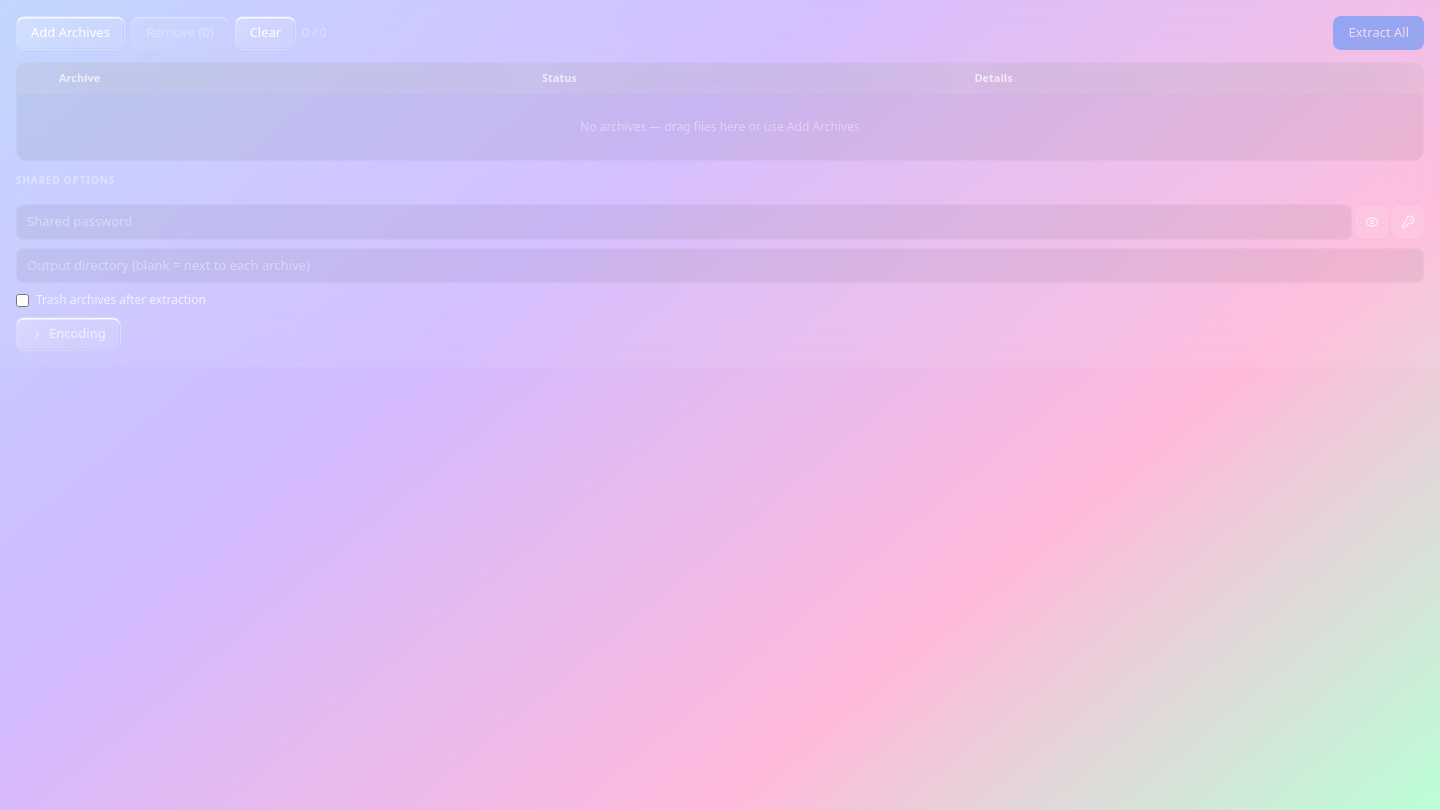
Scenario: BatchPanel › Clear button removes all archives
The image size is (1440, 810).
Click the button "Add Archives" at (70, 33), box [16, 16, 125, 50]
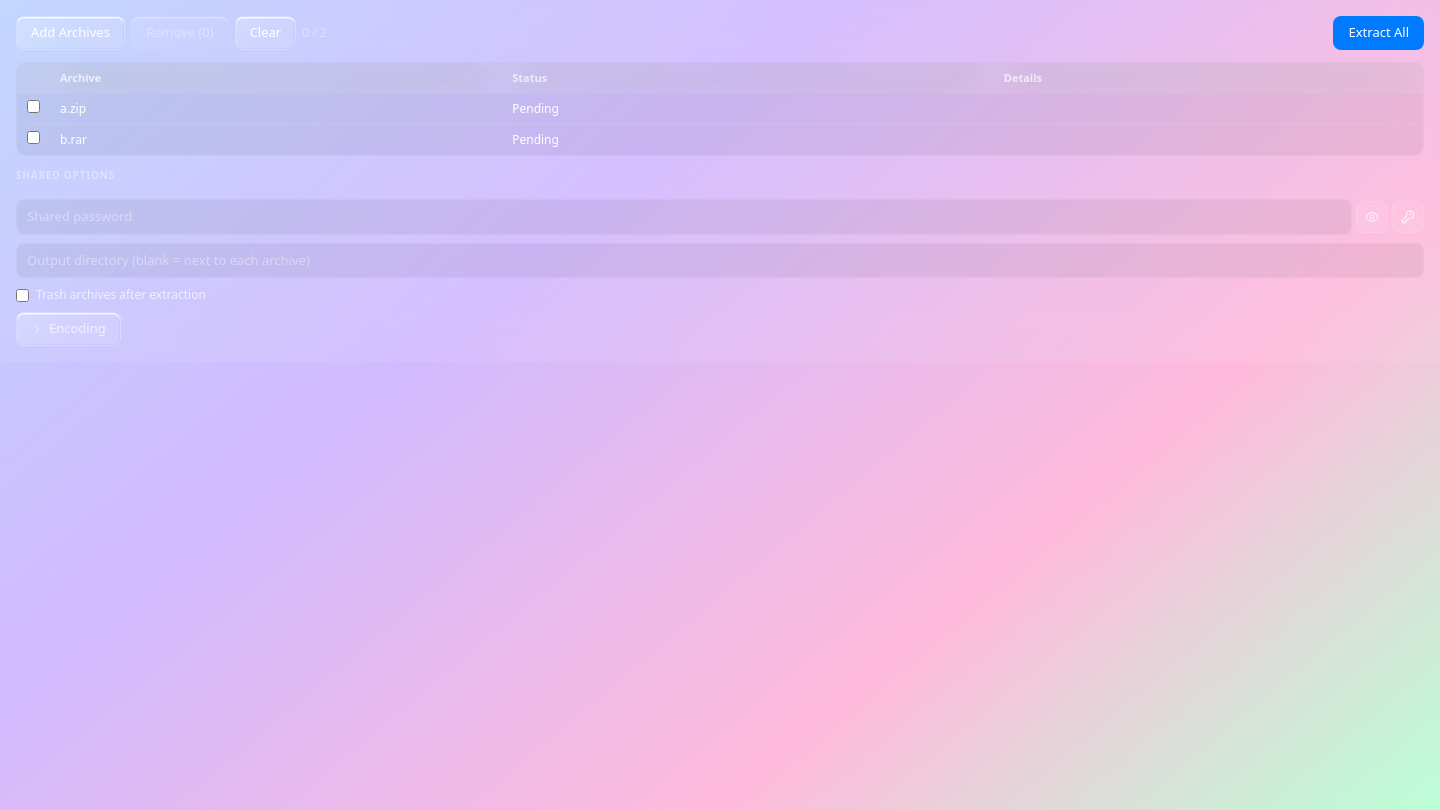
Expected: the text "a.zip" is shown, [50, 94, 502, 124]
Click the button "Clear" at (265, 33), box [235, 16, 296, 50]
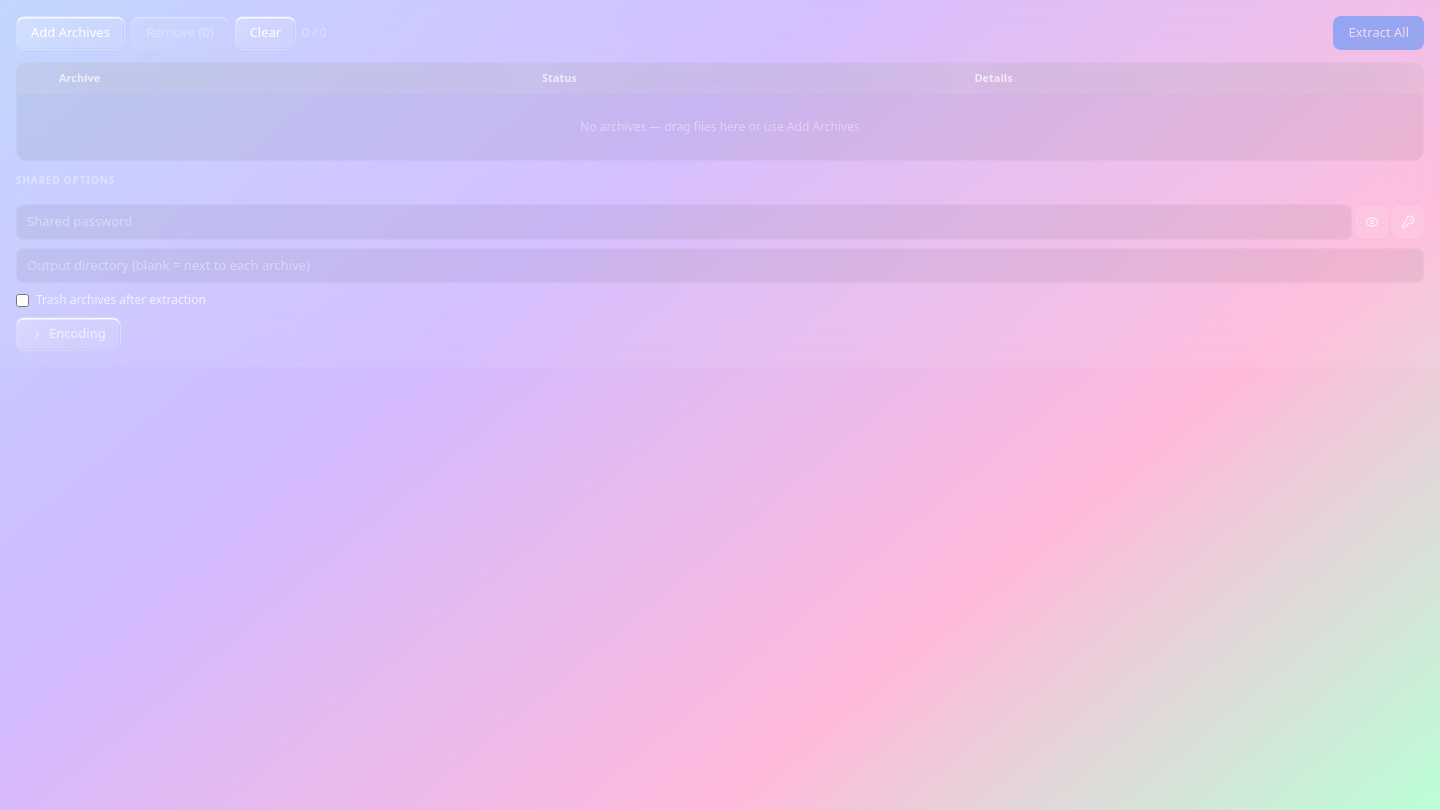
Expected: the text "a.zip" is gone
